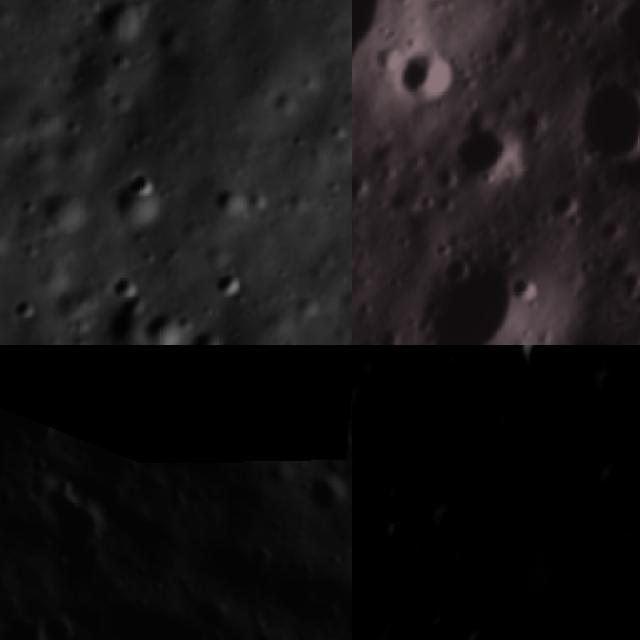crater: (394, 226, 552, 345), (544, 59, 640, 199), (516, 550, 616, 634), (449, 109, 534, 195), (384, 40, 468, 124), (112, 159, 178, 241), (290, 453, 352, 522), (94, 0, 157, 47), (29, 599, 90, 640), (592, 359, 638, 411), (532, 500, 584, 546), (124, 345, 196, 377), (516, 345, 579, 381), (138, 302, 189, 345), (0, 603, 56, 640), (589, 455, 636, 495), (213, 261, 254, 306), (429, 493, 470, 537), (352, 375, 381, 424), (377, 514, 417, 548), (379, 480, 416, 510), (187, 325, 233, 345), (459, 621, 502, 640), (398, 345, 447, 356), (630, 569, 640, 606), (352, 577, 361, 614)
